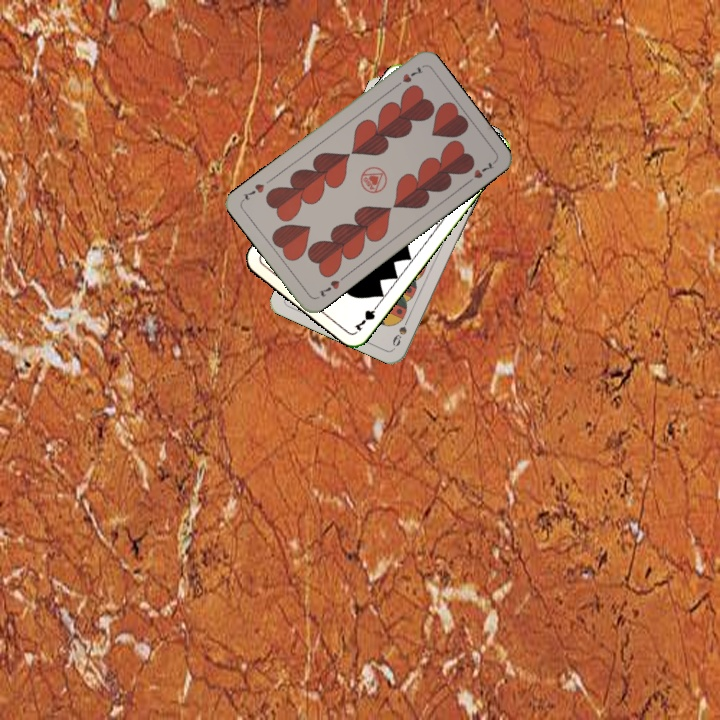G7: (350, 299, 382, 334)
H7: (390, 62, 426, 91), (315, 272, 348, 300)
S9: (388, 311, 413, 349)
